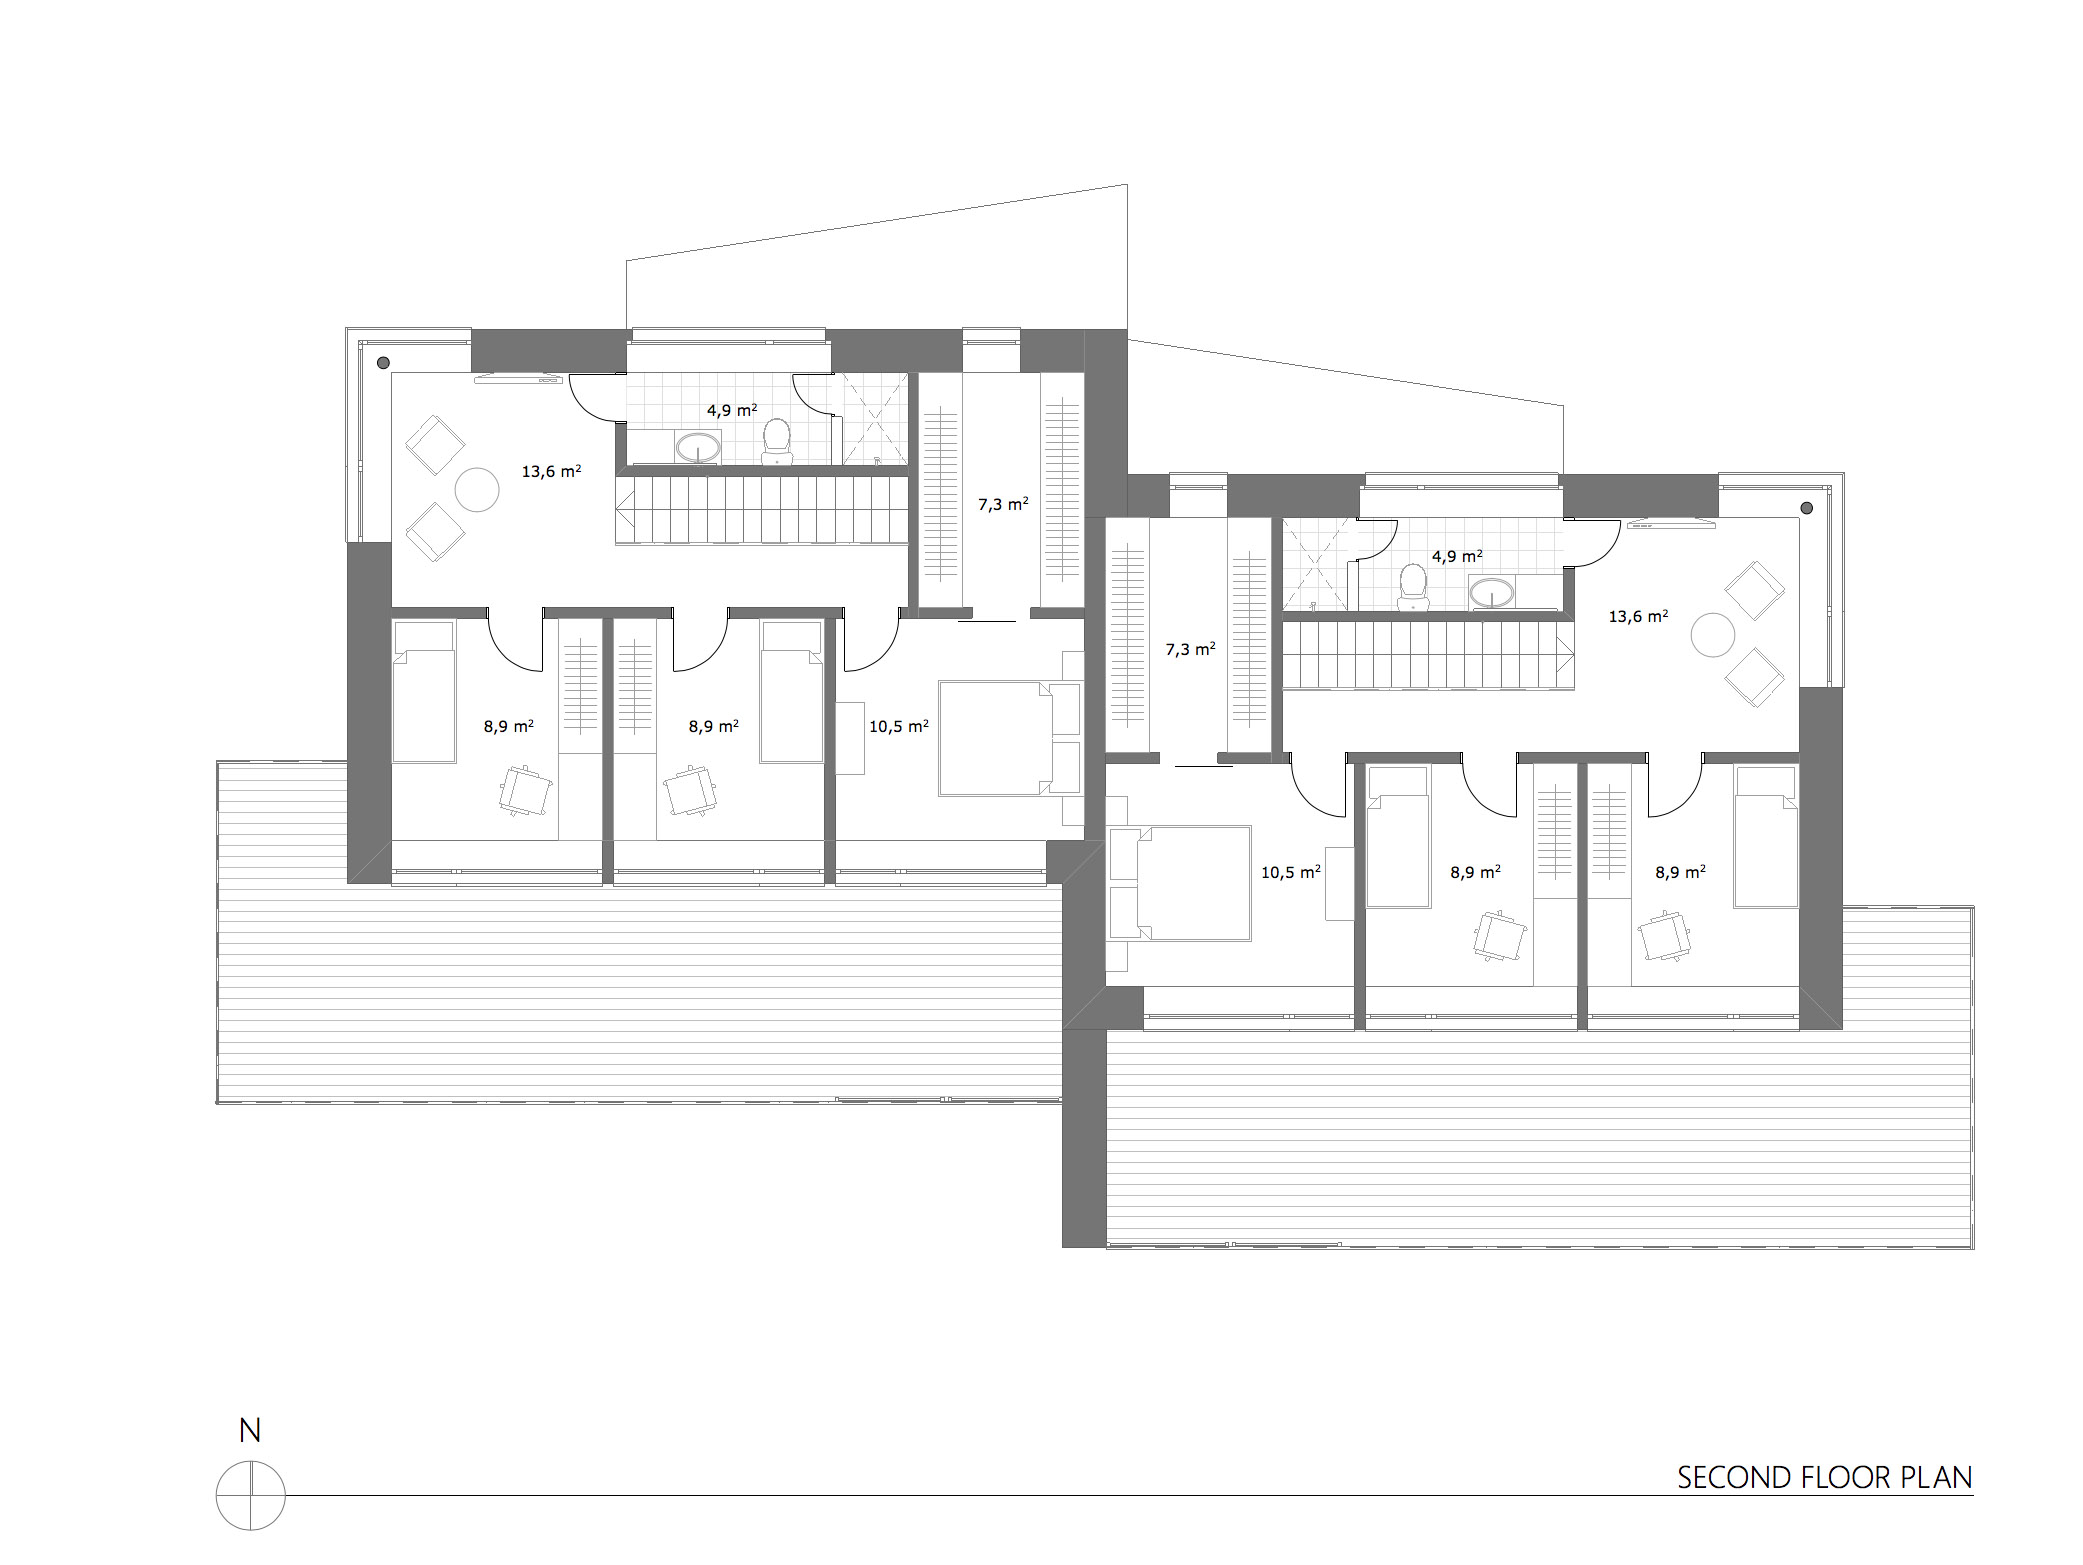door: (1642, 763, 1702, 822), (669, 621, 733, 676), (840, 618, 899, 676), (482, 621, 546, 672), (1291, 766, 1348, 819), (1458, 769, 1517, 820), (567, 373, 615, 426), (1573, 519, 1623, 569), (1360, 516, 1401, 566), (791, 373, 830, 416)
